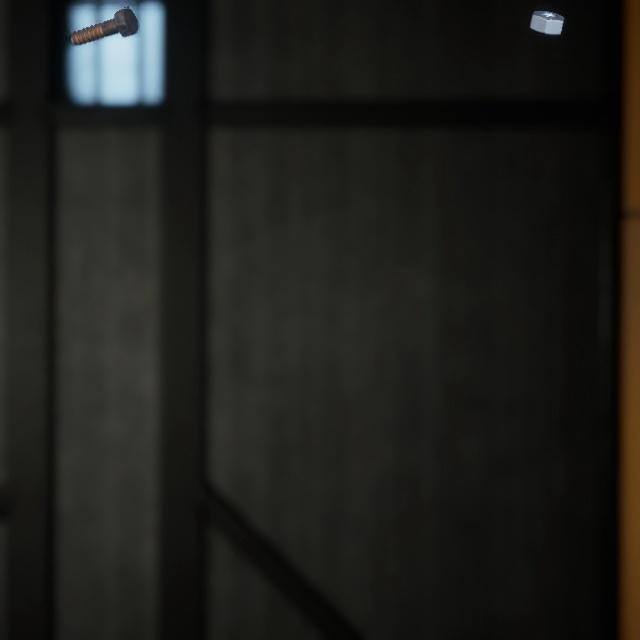bolt: (65, 0, 142, 41)
nut: (525, 0, 569, 31)
